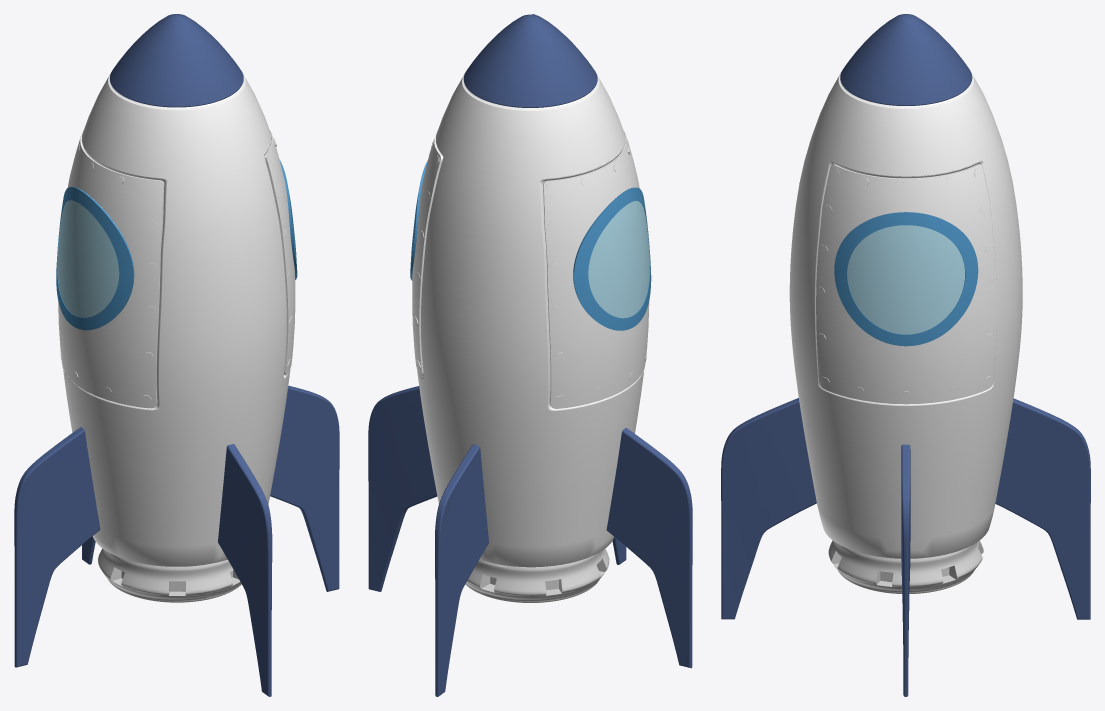
The model's file is Rocket-transformed.glb.
The picture shows the model from 3 angles, left to right: view 1: azimuth 30°, elevation 25°; view 2: azimuth 150°, elevation 25°; view 3: azimuth 270°, elevation 25°; orthographic projection.
Parts seen in each view (by area): view 1: Object_59_Plastic (1)_0; view 2: Object_59_Plastic (1)_0; view 3: Object_59_Plastic (1)_0.
Part boxes in pixels (<box>): Object_59_Plastic (1)_0: <box>14,14,339,696</box>; Object_59_Plastic (1)_0: <box>368,14,692,696</box>; Object_59_Plastic (1)_0: <box>721,14,1090,696</box>.
Size of the model in its own units: 0.7568 by 1.37 by 0.7603.
